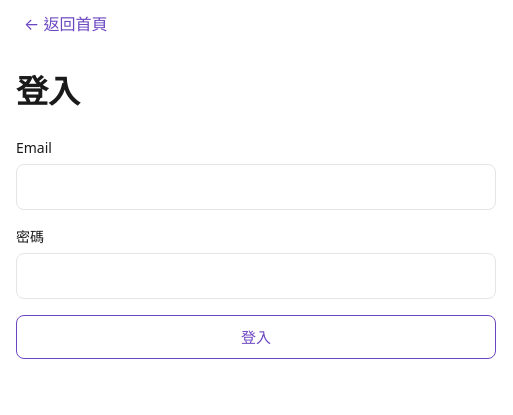
Scenario: LoginPage › shows a friendly message for wrong credentials (status 400)
The image size is (513, 415).
Step 1. Type "a@b.com" into the field labelled "Email" → point(256, 187), box [16,164,496,210]
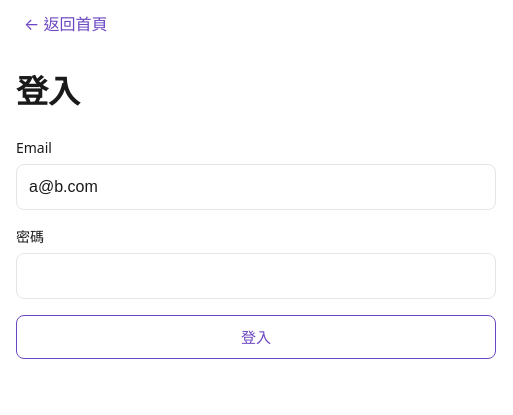
Step 2. Type "wrong" into the password field labelled "密碼" → point(256, 276), box [16,253,496,299]
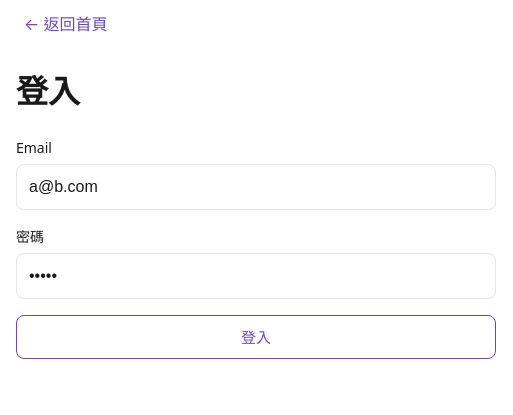
Step 3. Click the button "登入" → point(256, 337), box [16,315,496,359]
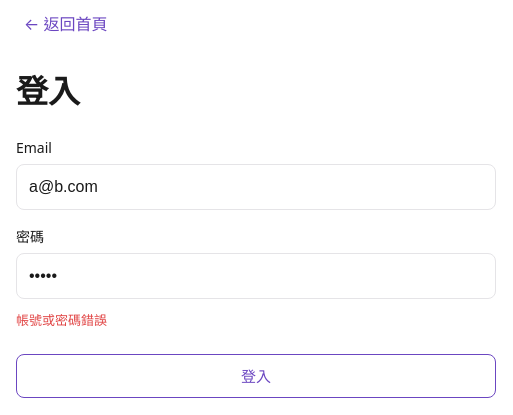
Now the text "帳號或密碼錯誤" is shown, box [16,311,107,329]
